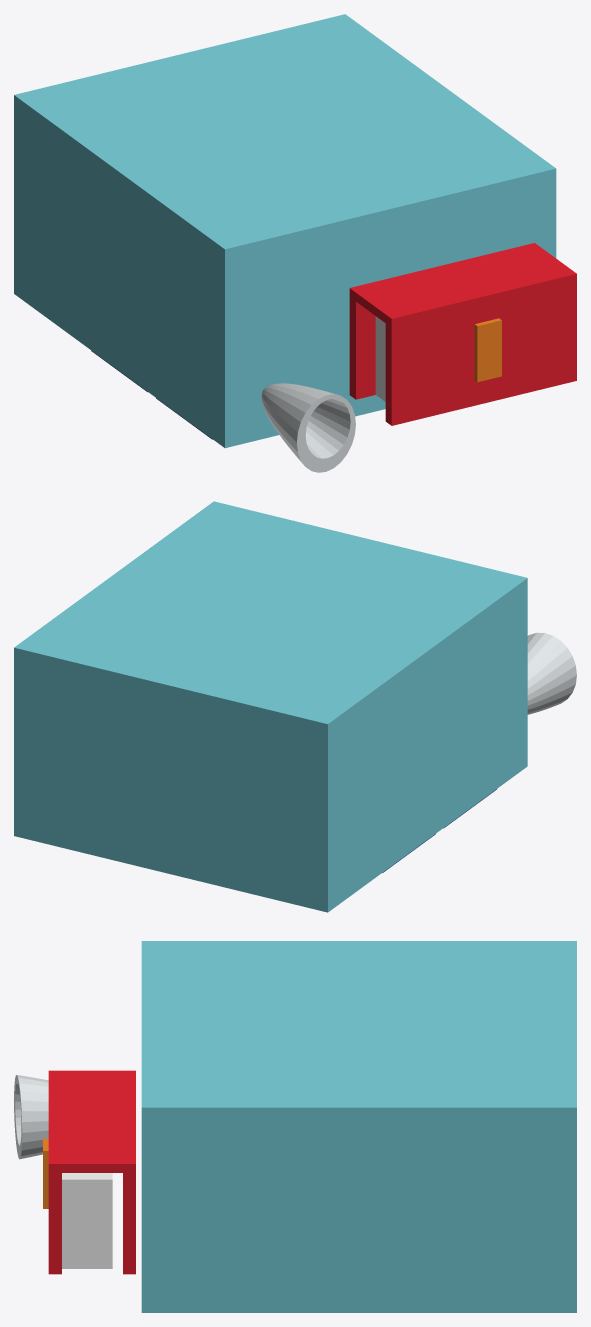
File: tinker.obj
3 views of the same model, one above another, from view 1: azimuth 30°, elevation 25°; view 2: azimuth 150°, elevation 25°; view 3: azimuth 270°, elevation 25° (orthographic). The views are drawn at different scales.
Parts seen in each view (by area): view 1: group_0_7720667, group_0_15277357, group_0_14541540, group_0_16089887, group_0_16448250; view 2: group_0_7720667, group_0_14541540; view 3: group_0_7720667, group_0_15277357, group_0_16448250, group_0_14541540.
Boxes of the visible parts, x1,y1,x2,y2 form: group_0_7720667: (14, 14, 556, 448); group_0_15277357: (349, 243, 576, 425); group_0_14541540: (261, 383, 355, 472); group_0_16089887: (474, 318, 501, 382); group_0_16448250: (375, 316, 385, 401); group_0_7720667: (14, 501, 527, 912); group_0_14541540: (527, 632, 576, 714); group_0_7720667: (141, 941, 576, 1312); group_0_15277357: (48, 1070, 135, 1274); group_0_16448250: (62, 1173, 112, 1268); group_0_14541540: (14, 1075, 48, 1159).
Bounding box in the file's own units: 68 × 45 × 97.
